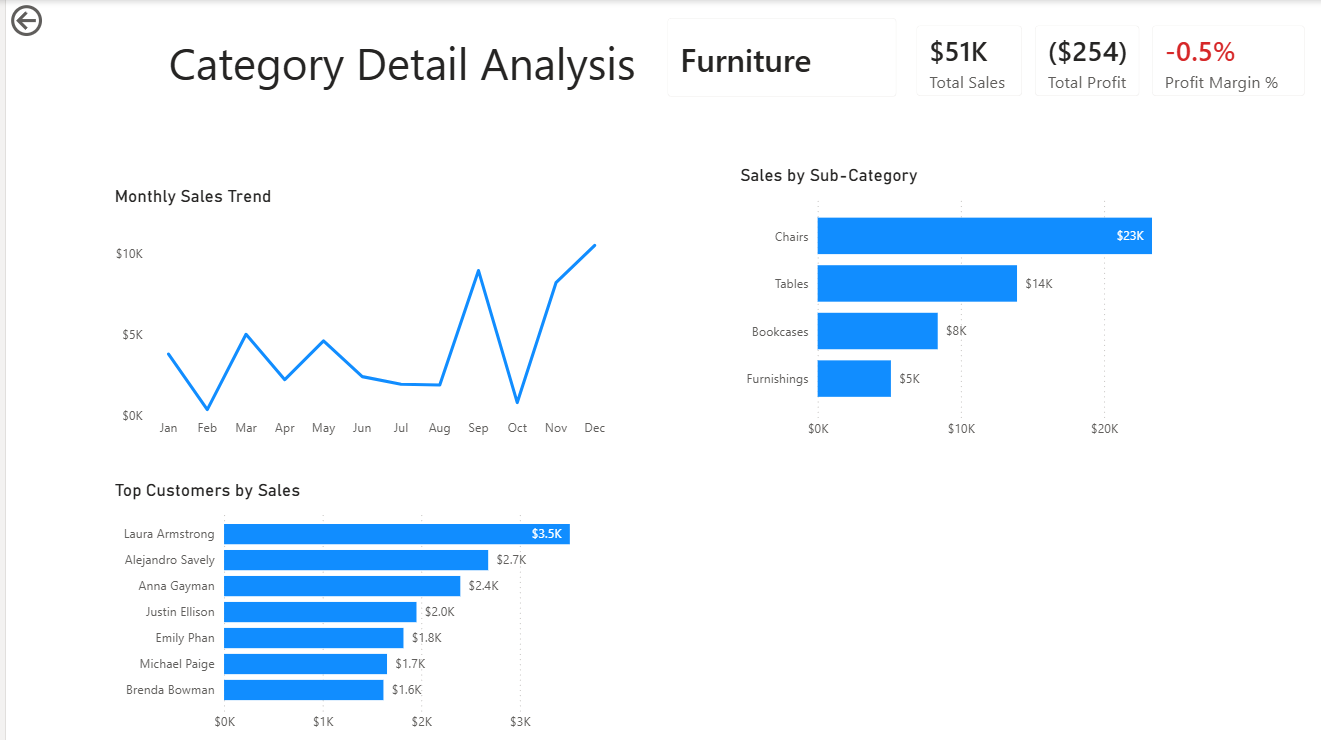

What the dashboard file says about the page in this screenshot:
{"tool":"powerbi","page":{"name":"Category Details","canvas":[1280,720],"ordinal":1},"visuals":[{"type":"actionButton","box":[0,0,100,40],"z":0},{"type":"textbox","box":[153.1,26.5,514,177.6],"z":1000},{"type":"cardVisual","fields":{"Data":["Dim_Date.Selected Category"]},"box":[625.5,0,257,111.5],"z":2000},{"type":"clusteredBarChart","title":"Sales by Sub-Category","fields":{"Category":["ecommerce_project superstore.sub_category"],"Y":["_All Measures.Total Sales"]},"box":[708.7,160.6,457.3,274],"z":3000},{"type":"clusteredBarChart","title":"Top Customers by Sales","fields":{"Category":["ecommerce_project superstore.customer_name"],"Y":["_All Measures.Total Sales"]},"box":[100.2,466.8,491.3,253.2],"z":4000},{"type":"lineChart","title":"Monthly Sales Trend","fields":{"Category":["Dim_Date.Month Name"],"Y":["_All Measures.Total Sales"]},"box":[100.2,181.4,491.3,253.2],"z":5000},{"type":"cardVisual","fields":{"Data":["_All Measures.Total Sales"]},"box":[867.4,7.6,138,103.9],"z":6000},{"type":"cardVisual","fields":{"Data":["_All Measures.Total Profit"]},"box":[982.7,7.6,136.1,103.9],"z":7000},{"type":"cardVisual","fields":{"Data":["_All Measures.Profit Margin %"]},"box":[1096.1,7.6,183.3,103.9],"z":8000}]}

Visuals, with their boxes in screenshot pixels (x1, y1, x2, y2), scaled from the page's 1280x720 canvas onto the 1321x740 screenshot:
actionButton: [0, 0, 103, 41]
textbox: [158, 27, 688, 210]
cardVisual - Dim_Date.Selected Category: [646, 0, 911, 115]
"Sales by Sub-Category" clusteredBarChart: [731, 165, 1203, 447]
"Top Customers by Sales" clusteredBarChart: [103, 480, 610, 739]
"Monthly Sales Trend" lineChart: [103, 186, 610, 447]
cardVisual - _All Measures.Total Sales: [895, 8, 1038, 115]
cardVisual - _All Measures.Total Profit: [1014, 8, 1155, 115]
cardVisual - _All Measures.Profit Margin %: [1131, 8, 1320, 115]
